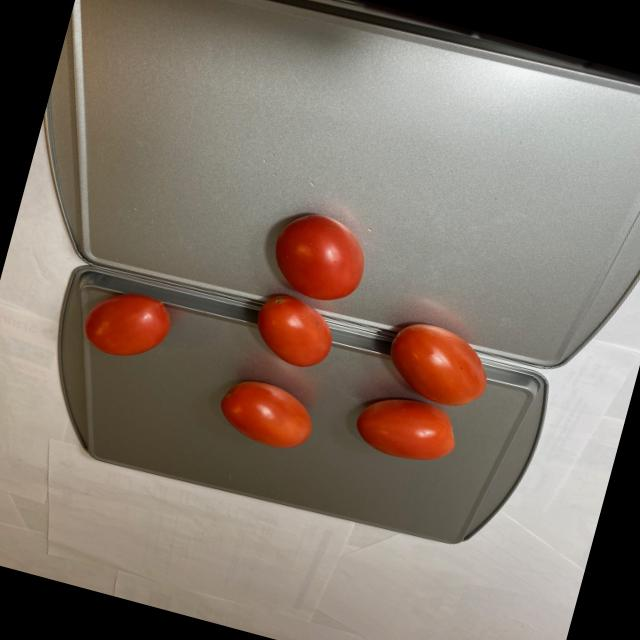tomato: (63, 160, 516, 497)
